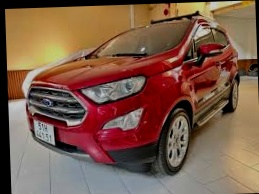Bien-so: (24, 114, 47, 142)
